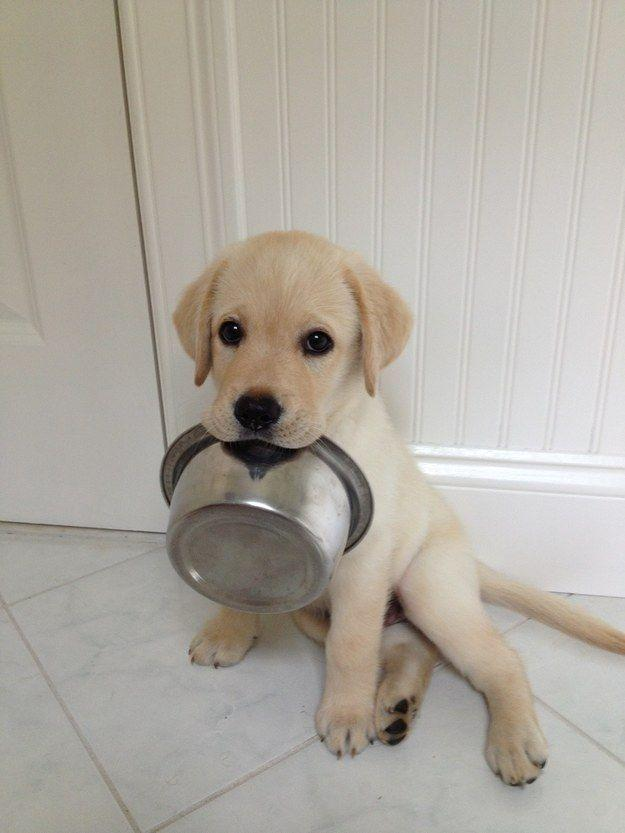puppy-dog: (173, 223, 625, 790)
